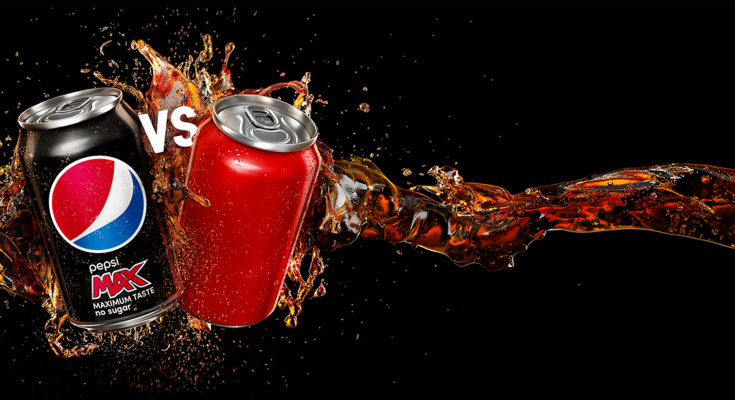pepsi: (44, 154, 145, 252), (47, 154, 145, 252), (44, 157, 145, 252)
